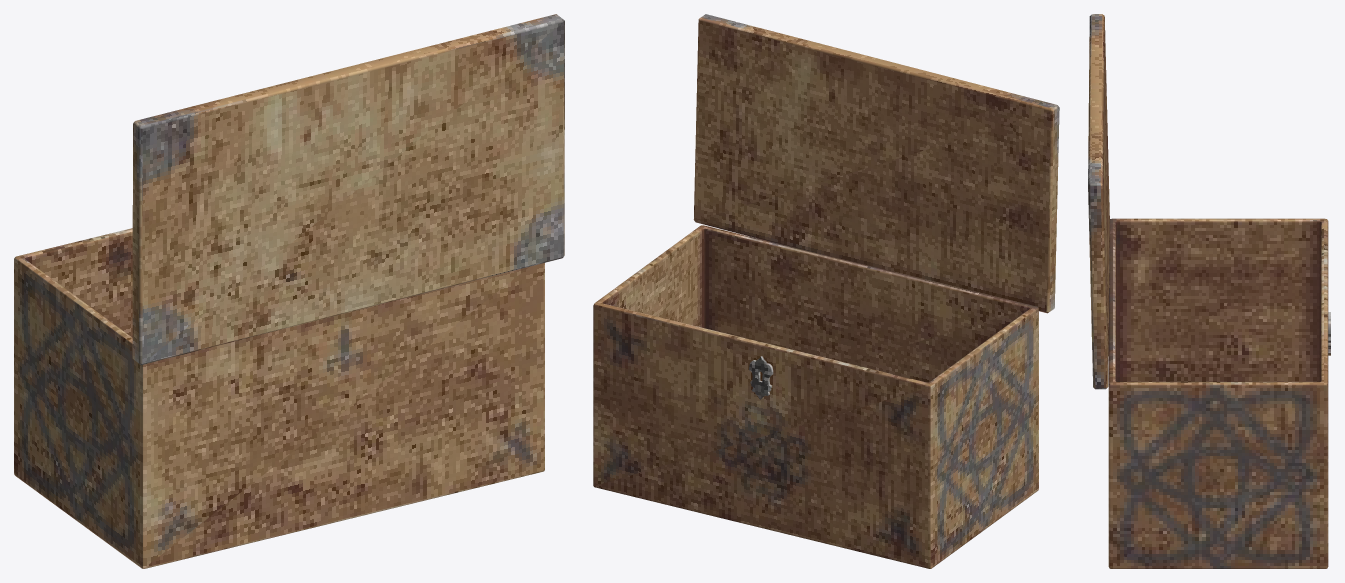
File: toy_chest.glb
The picture shows the model from 3 angles, left to right: view 1: azimuth 30°, elevation 25°; view 2: azimuth 150°, elevation 25°; view 3: azimuth 270°, elevation 25°; orthographic projection. The views are drawn at different scales.
Visible parts, largest first — view 1: toy_chest_src; view 2: toy_chest_src; view 3: toy_chest_src.
Boxes of the visible parts, x1,y1,x2,y2 form: toy_chest_src: [14, 14, 564, 568]; toy_chest_src: [593, 14, 1059, 568]; toy_chest_src: [1088, 14, 1330, 568].
Bounding box in the file's own units: 1.19 × 1.23 × 0.6932.
1 material, 1 textured.
